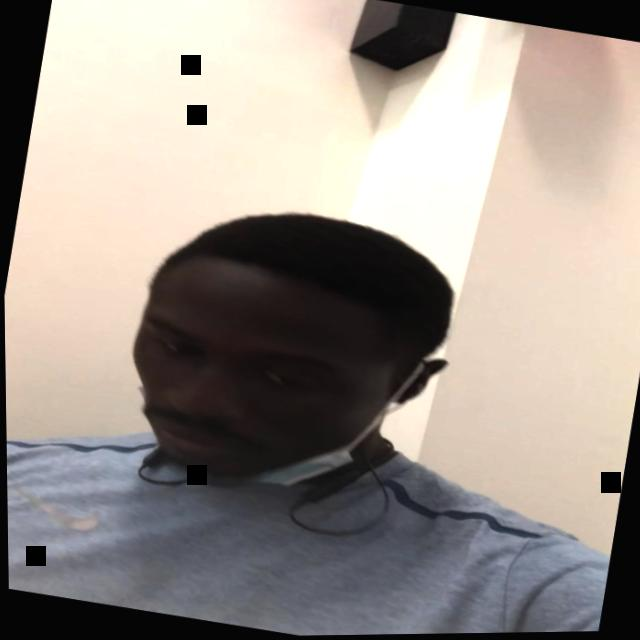NO-Mask: (108, 274, 430, 511)
